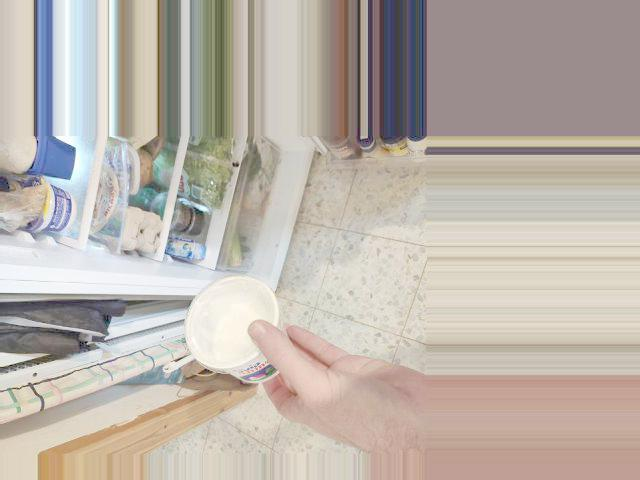cotage: (177, 274, 289, 390)
